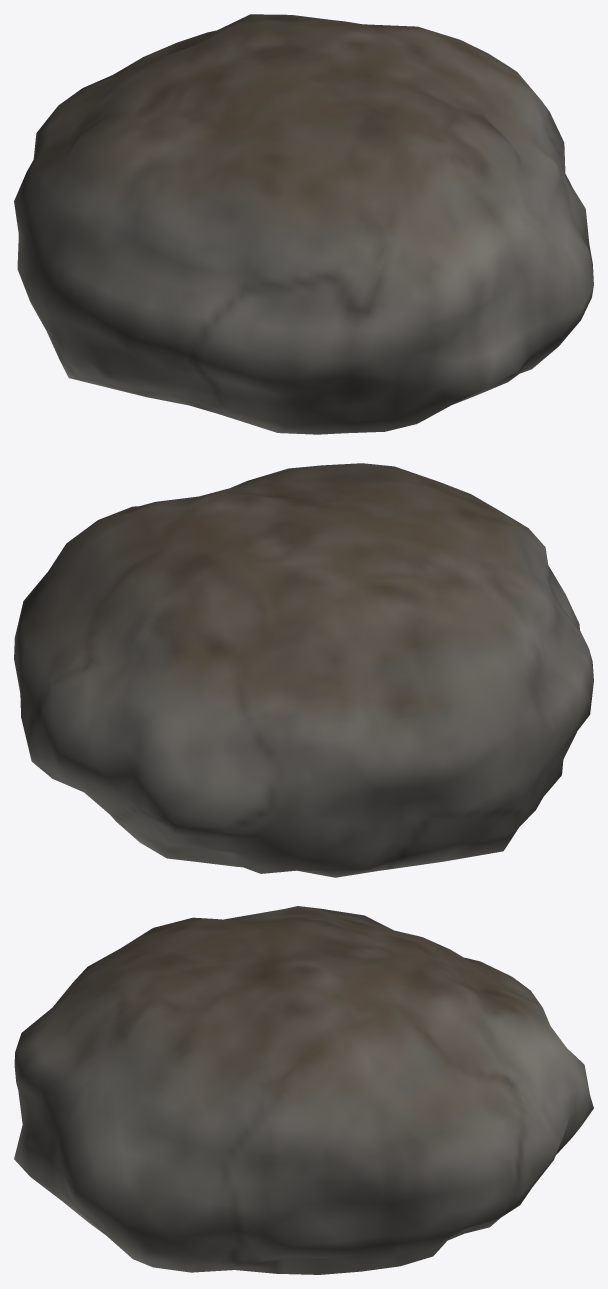
The model's file is SM_rock_boulder_04.fbx.
3 renders of one model, top to bottom at view 1: azimuth 30°, elevation 25°; view 2: azimuth 150°, elevation 25°; view 3: azimuth 270°, elevation 25°, orthographic. The views are drawn at different scales.
Visible parts, largest first — view 1: SM_rock_boulder_04; view 2: SM_rock_boulder_04; view 3: SM_rock_boulder_04.
Boxes of the visible parts, bbox=[...] form: SM_rock_boulder_04: bbox=[14, 14, 593, 434]; SM_rock_boulder_04: bbox=[14, 463, 593, 877]; SM_rock_boulder_04: bbox=[14, 906, 593, 1274].
Size of the model in its own units: 1.91 by 1.05 by 2.11.
